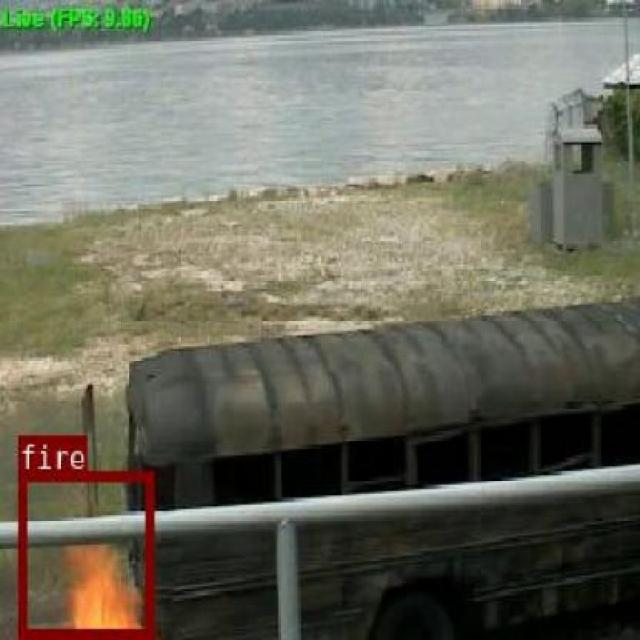Fire: (17, 470, 152, 636)
